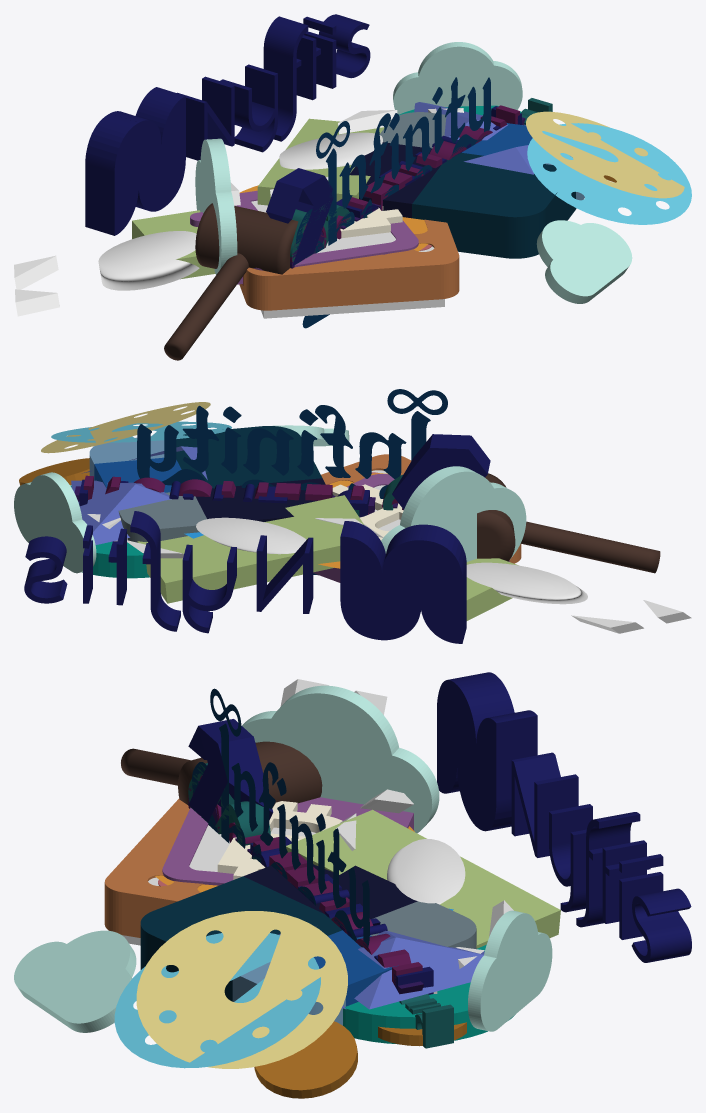
File: ALL.glb
3 views of the same model, one above another, from view 1: azimuth 30°, elevation 25°; view 2: azimuth 150°, elevation 25°; view 3: azimuth 270°, elevation 25° (orthographic). The views are drawn at different scales.
Parts seen in each view (by area): view 1: Curve, Curve.006, Curve.011, Curve.015, Cylinder.009, Curve.013, Cylinder.007, Curve.001, Curve.019, Curve.009, Cube, Curve.005 (+6 smaller); view 2: Curve, Curve.011, Curve.006, Curve.001, Cube, Cylinder.009, Cylinder.007, Curve.009, Curve.012, Curve.005, Curve.019, Curve.013 (+5 smaller); view 3: Curve, Curve.011, Curve.019, Curve.006, Cube, Curve.013, Curve.001, Cylinder.009, Curve.009, Curve.015, Cylinder.012, Cylinder.007 (+7 smaller).
Part boxes in pixels (x1=…): Curve: x1=85, y1=14, x2=370, y2=235; Curve.006: x1=349, y1=112, x2=584, y2=258; Curve.011: x1=195, y1=42, x2=632, y2=303; Curve.015: x1=239, y1=219, x2=459, y2=310; Cylinder.009: x1=14, y1=108, x2=463, y2=316; Curve.013: x1=527, y1=123, x2=691, y2=224; Cylinder.007: x1=164, y1=203, x2=298, y2=360; Curve.001: x1=296, y1=77, x2=491, y2=328; Curve.019: x1=526, y1=111, x2=684, y2=198; Curve.009: x1=266, y1=106, x2=521, y2=265; Cube: x1=132, y1=118, x2=384, y2=279; Curve.005: x1=290, y1=105, x2=519, y2=266; Curve: x1=24, y1=511, x2=466, y2=643; Curve.011: x1=14, y1=425, x2=526, y2=573; Curve.006: x1=89, y1=426, x2=332, y2=542; Curve.001: x1=137, y1=389, x2=447, y2=575; Cube: x1=137, y1=495, x2=518, y2=620; Cylinder.009: x1=87, y1=514, x2=691, y2=633; Cylinder.007: x1=477, y1=473, x2=660, y2=573; Curve.009: x1=79, y1=434, x2=490, y2=517; Curve.012: x1=71, y1=446, x2=207, y2=544; Curve.005: x1=83, y1=475, x2=403, y2=514; Curve.019: x1=41, y1=402, x2=210, y2=453; Curve.013: x1=51, y1=421, x2=231, y2=442; Curve: x1=437, y1=672, x2=691, y2=962; Curve.011: x1=14, y1=685, x2=552, y2=1032; Curve.019: x1=136, y1=911, x2=347, y2=1068; Curve.006: x1=140, y1=864, x2=476, y2=1025; Cube: x1=286, y1=809, x2=560, y2=948; Curve.013: x1=114, y1=933, x2=320, y2=1068; Curve.001: x1=192, y1=688, x2=369, y2=949; Cylinder.009: x1=280, y1=679, x2=513, y2=968; Curve.009: x1=188, y1=719, x2=433, y2=994; Curve.015: x1=104, y1=798, x2=203, y2=937; Cylinder.012: x1=254, y1=1021, x2=466, y2=1098; Cylinder.007: x1=121, y1=741, x2=322, y2=807.
Bounding box in the file's own units: 2.93 × 0.8059 × 2.16.
